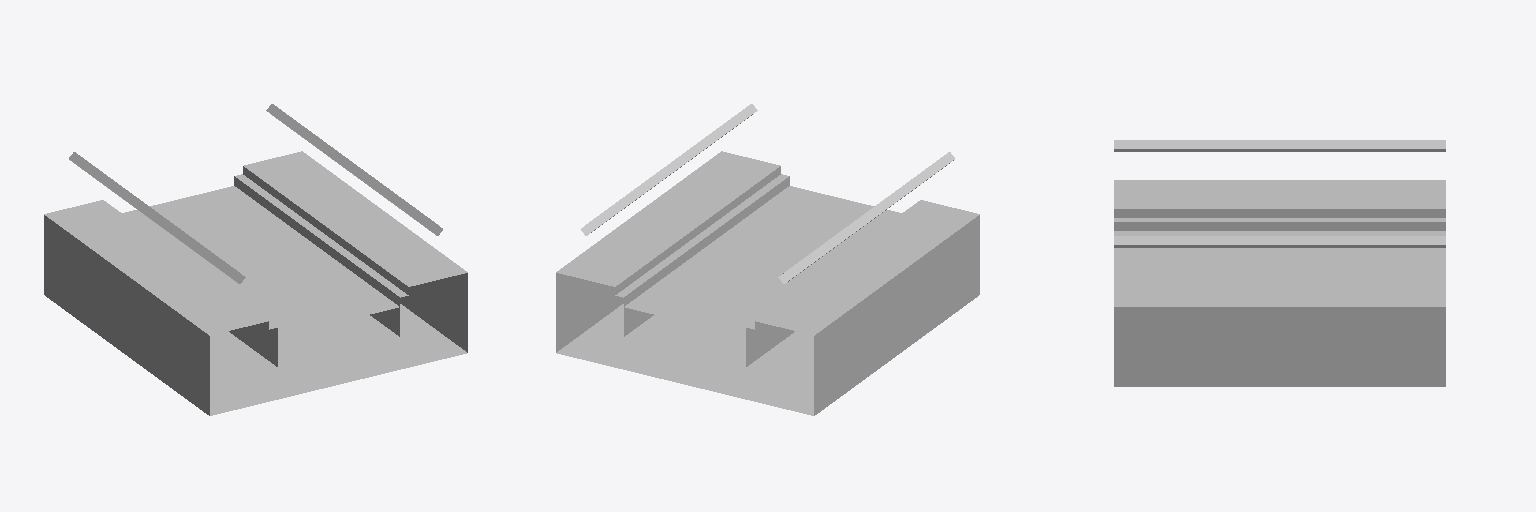
The model's file is StraightPiece.obj.
The picture shows the model from 3 angles: view 1: azimuth 30°, elevation 25°; view 2: azimuth 150°, elevation 25°; view 3: azimuth 270°, elevation 25°; orthographic projection.
Parts seen in each view (by area): view 1: StraightPiece_geo; view 2: StraightPiece_geo; view 3: StraightPiece_geo.
Part boxes in pixels (bbox=[...]): StraightPiece_geo: bbox=[44, 104, 467, 415]; StraightPiece_geo: bbox=[556, 104, 979, 415]; StraightPiece_geo: bbox=[1114, 140, 1445, 386].
Bounding box in the file's own units: 171 × 85.93 × 190.